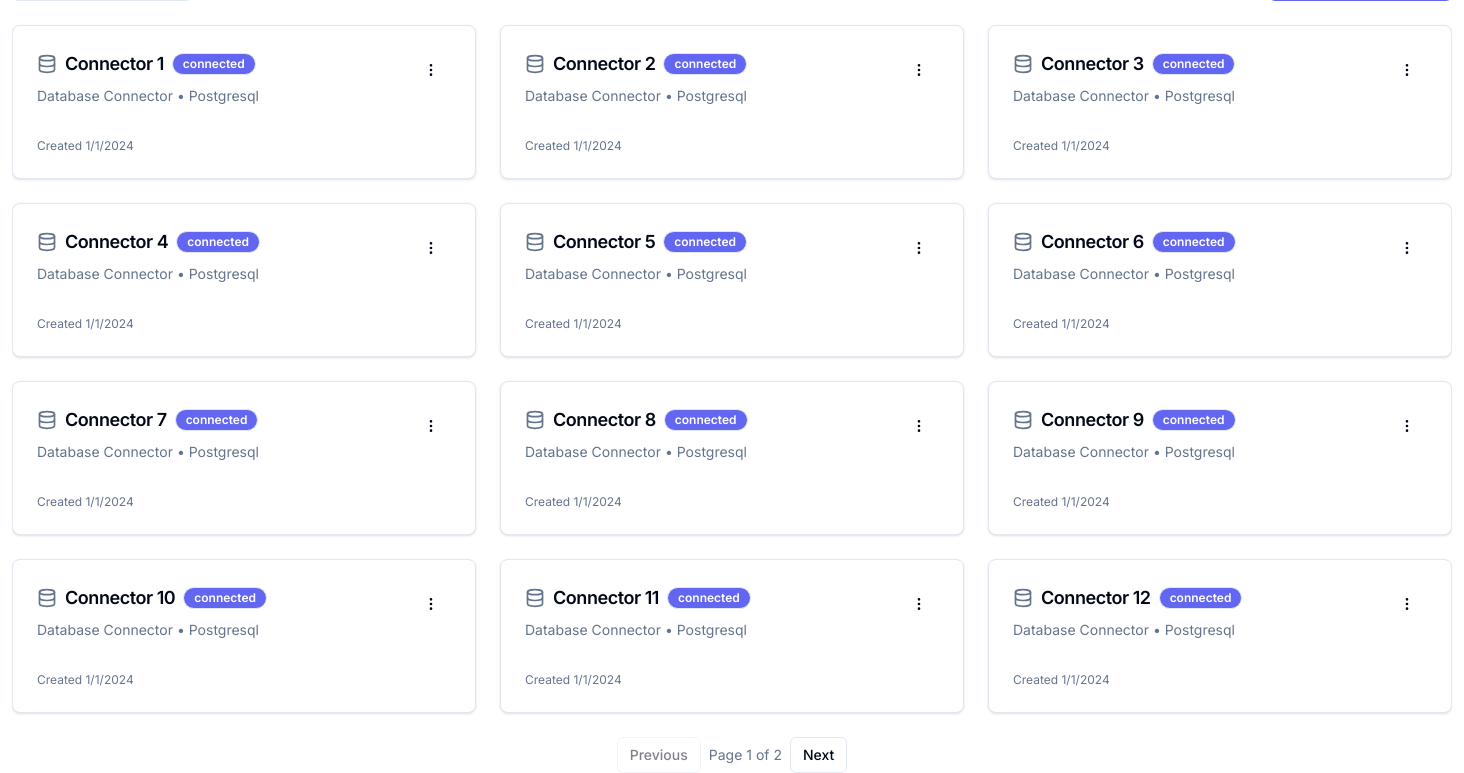
Test: ConnectorList › should disable next button on last page
Expected: the text "Page 1 of 2" is shown, 709,745 -> 782,765
Step 1. Click the button "Next" → (819, 755), box 790,737 -> 847,772
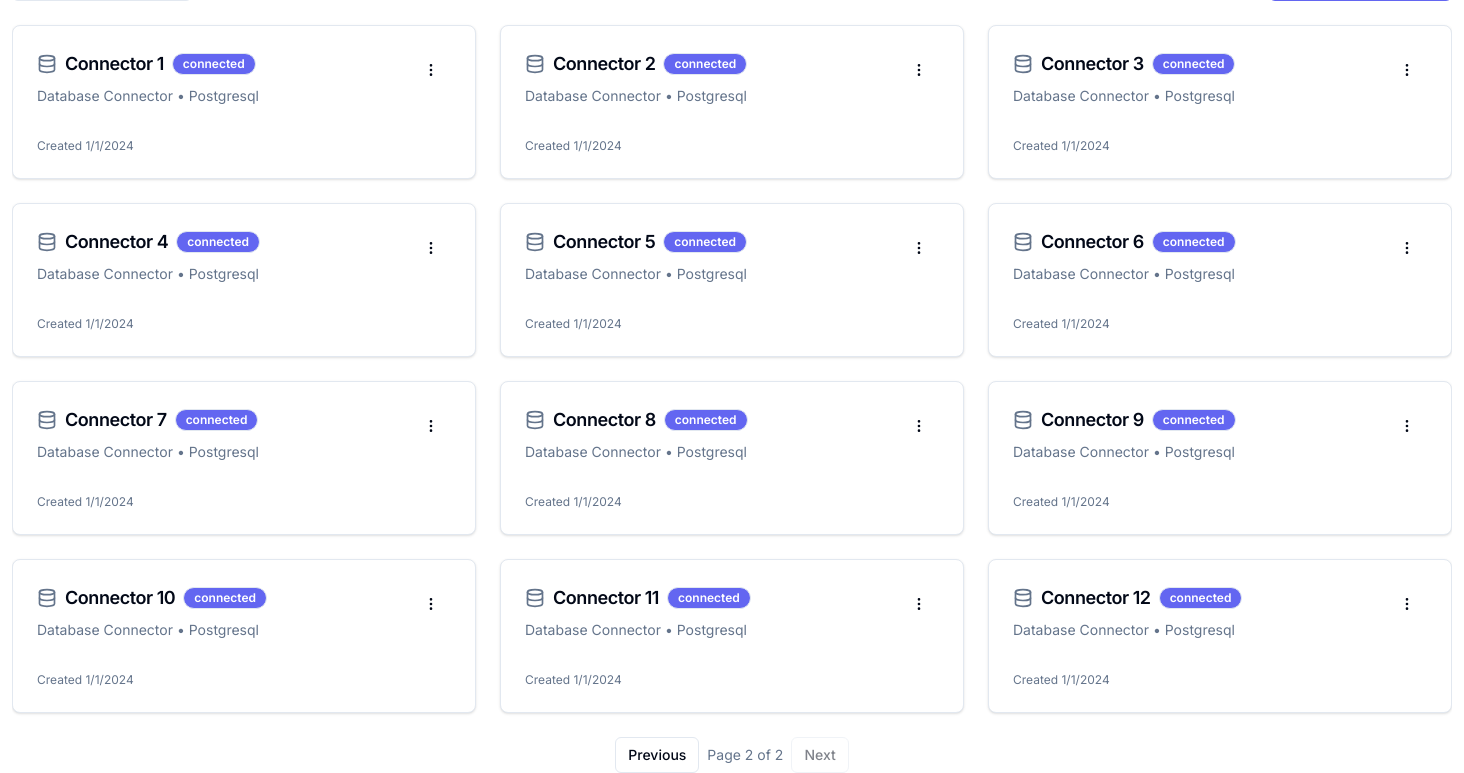
Expected: the text "Page 2 of 2" is shown, 707,745 -> 783,765
Expected: the button "Next" is disabled, 791,737 -> 849,772
